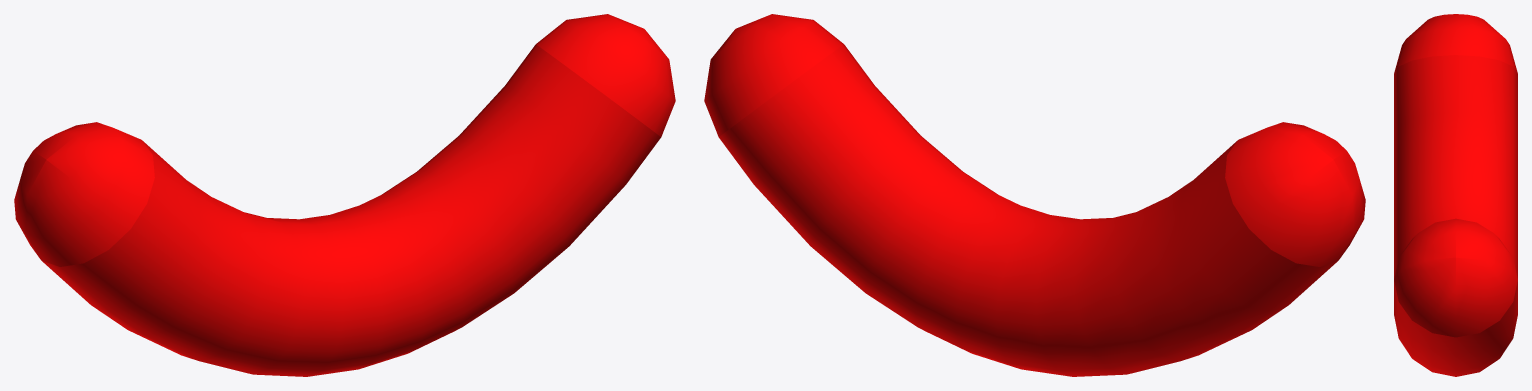
The model's file is Mouth5.glb.
3 views of the same model, side by side, from view 1: azimuth 30°, elevation 25°; view 2: azimuth 150°, elevation 25°; view 3: azimuth 270°, elevation 25° (orthographic). The views are drawn at different scales.
Parts seen in each view (by area): view 1: Mouth5; view 2: Mouth5; view 3: Mouth5.
Boxes of the visible parts, x1,y1,x2,y2 form: Mouth5: (14, 14, 675, 376); Mouth5: (704, 14, 1365, 376); Mouth5: (1394, 14, 1517, 376).
Size of the model in its own units: 46.87 by 20.6 by 10.
